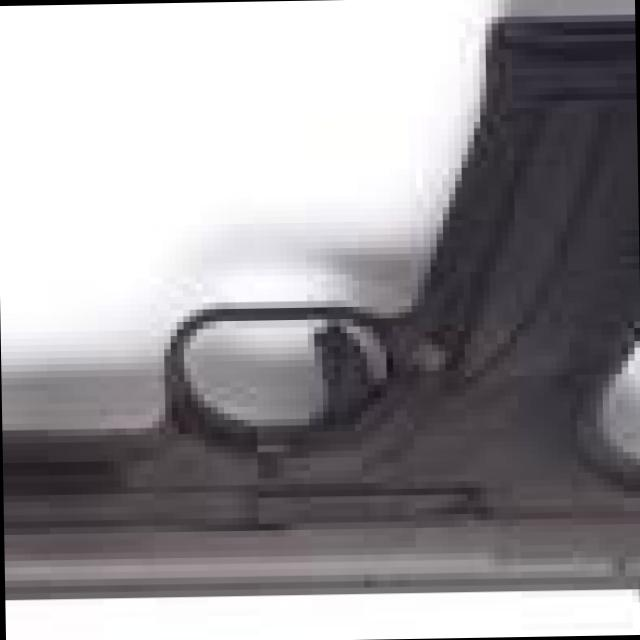Gun: (0, 13, 640, 619)
